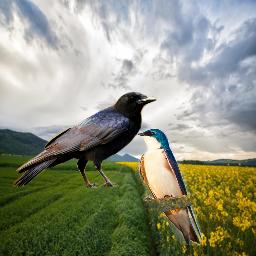Crow: (12, 90, 157, 188)
Swallow: (137, 128, 203, 245)
